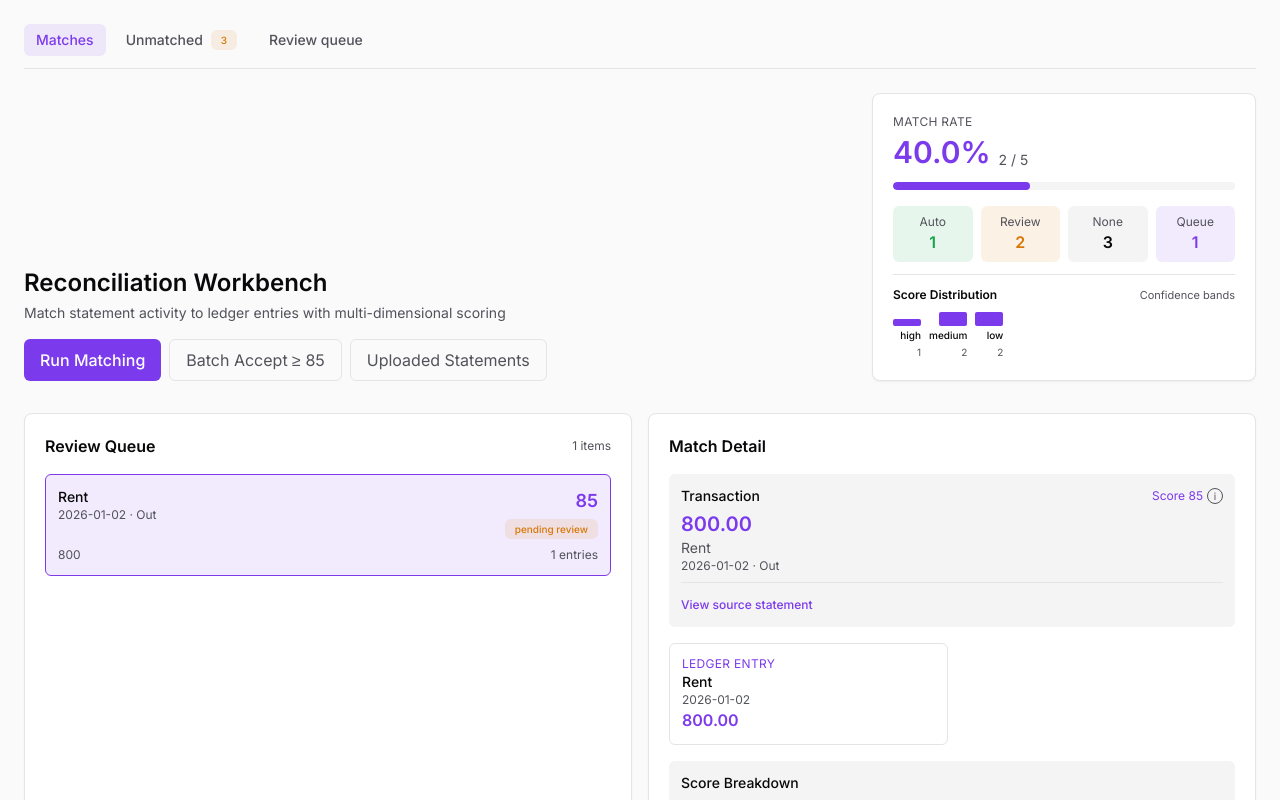
ReconciliationWorkbench › test_AC8_13_48 reports mutation failures without dropping the review queue
Expected: the 1st text "Rent" is shown, left=58, top=488, right=88, bottom=504
What coordinates should you click on to do the following:
click the button "Run Matching"
I would click on:
 (93, 360)
Its box is left=24, top=338, right=161, bottom=380.
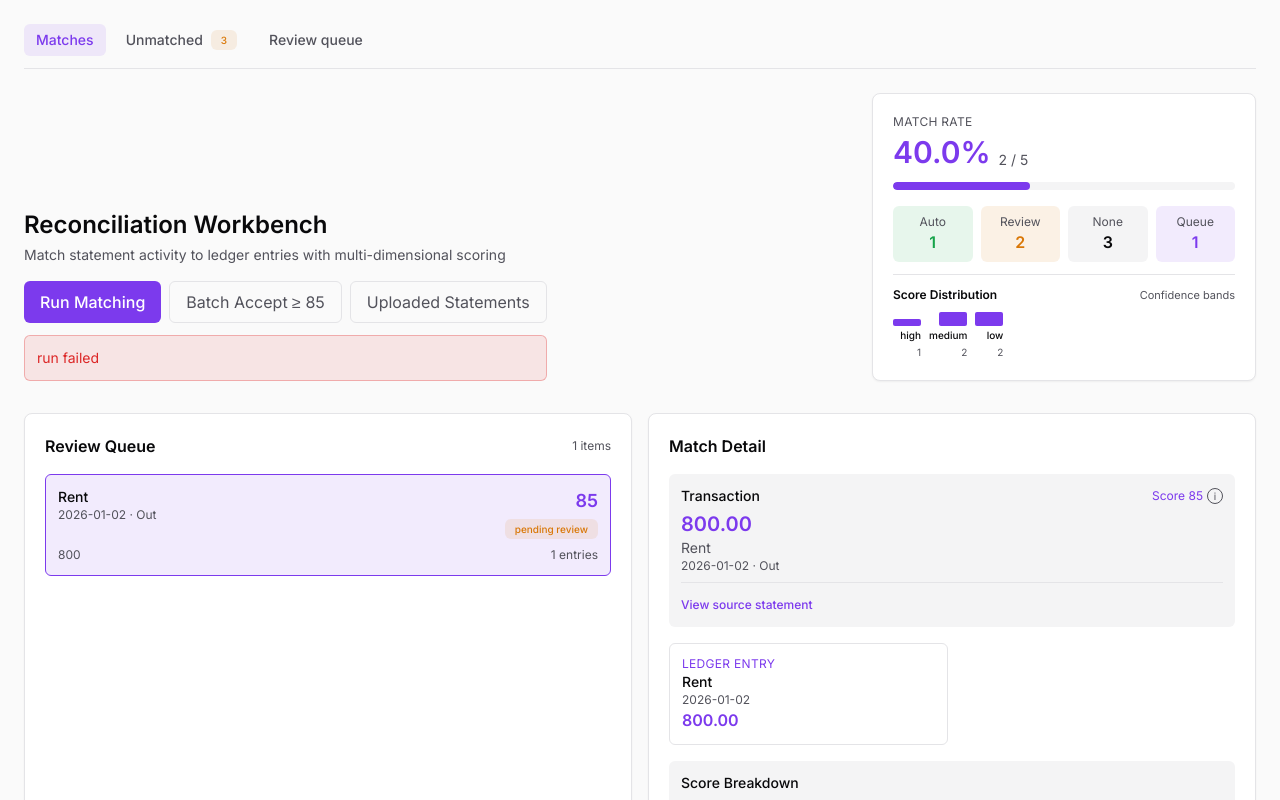
Now the text "run failed" is shown, box left=24, top=334, right=547, bottom=380
What coordinates should you click on to do the following:
click the button "Batch Accept ≥ 85"
I would click on:
 (256, 302)
Its box is left=169, top=280, right=342, bottom=322.
(page scrolled)
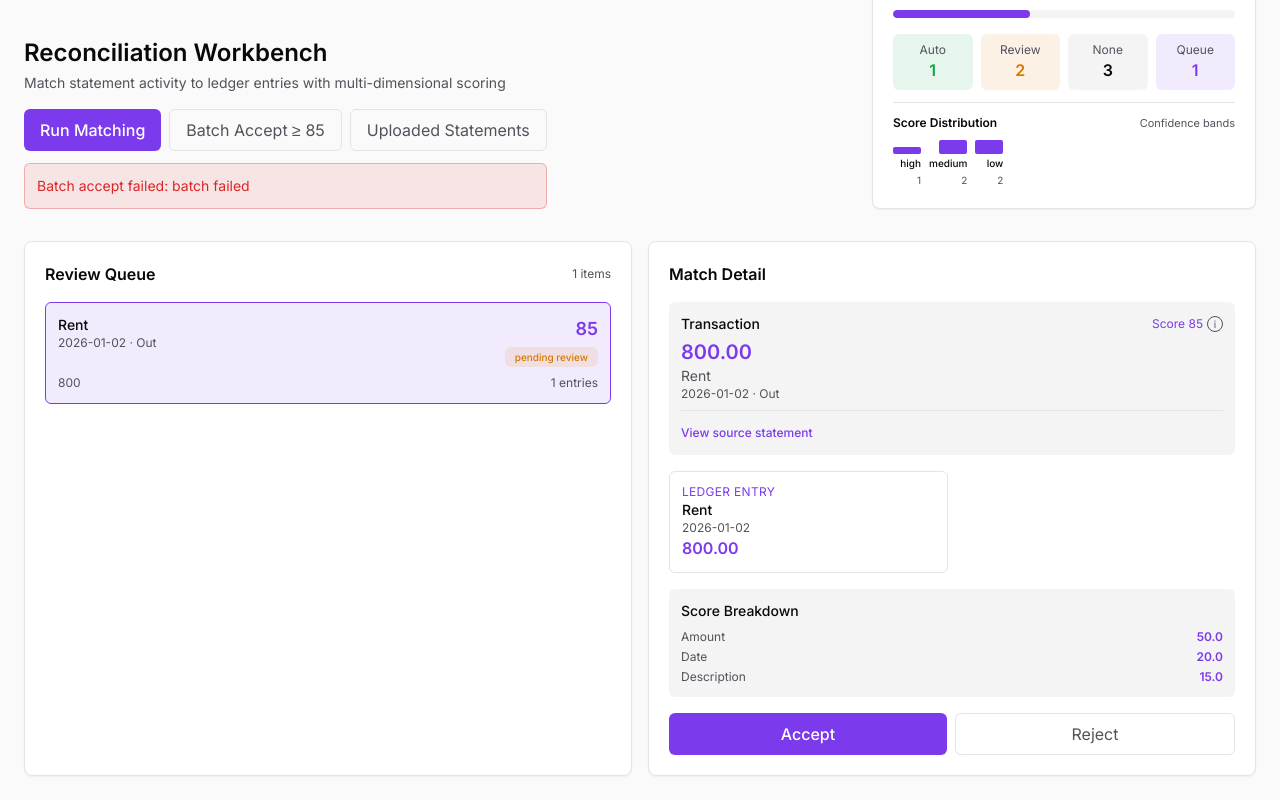
Now the text "Batch accept failed: batch failed" is shown, box left=24, top=162, right=547, bottom=208
What coordinates should you click on to do the following:
click the button "Accept"
I would click on:
 (808, 734)
Its box is left=669, top=712, right=947, bottom=754.
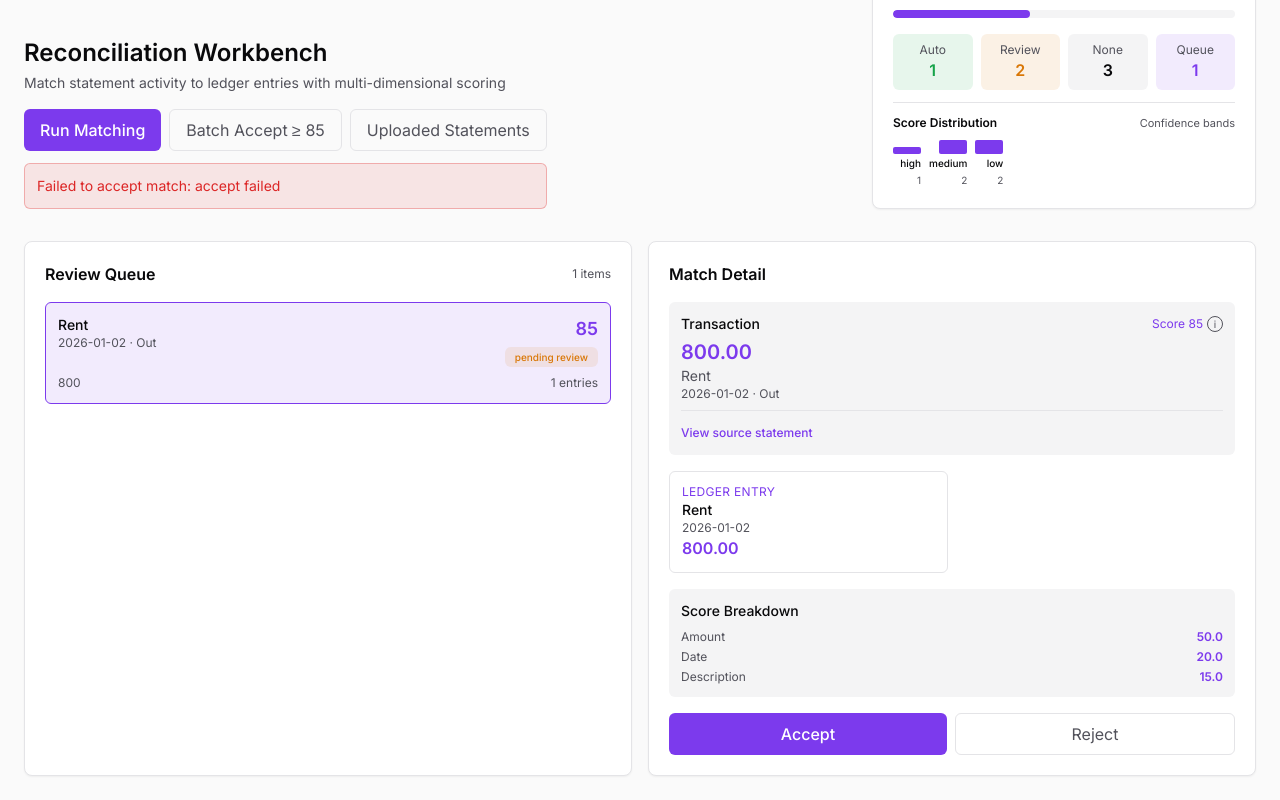
Now the text "Failed to accept match: accept failed" is shown, box left=24, top=162, right=547, bottom=208
What coordinates should you click on to do the following:
click the button "Reject"
I would click on:
 (1095, 734)
Its box is left=955, top=712, right=1235, bottom=754.
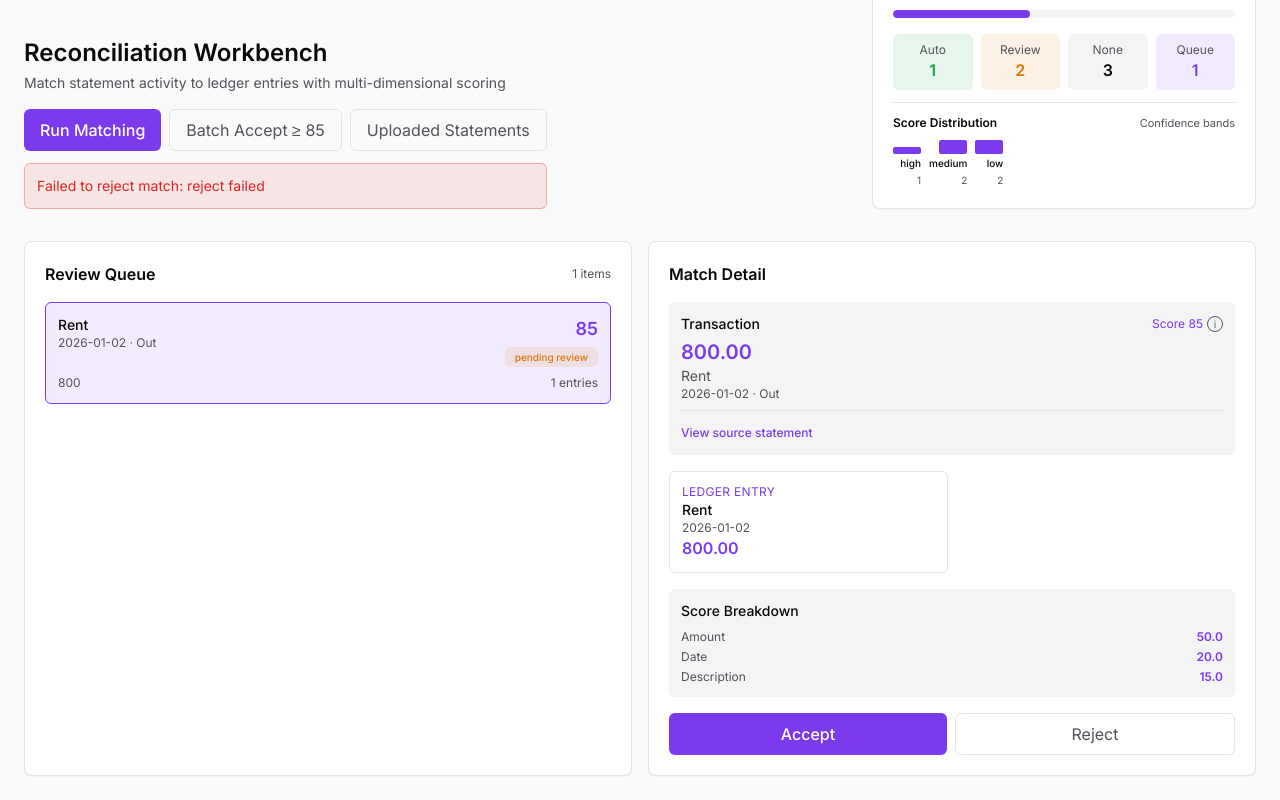
Now the text "Failed to reject match: reject failed" is shown, box left=24, top=162, right=547, bottom=208
